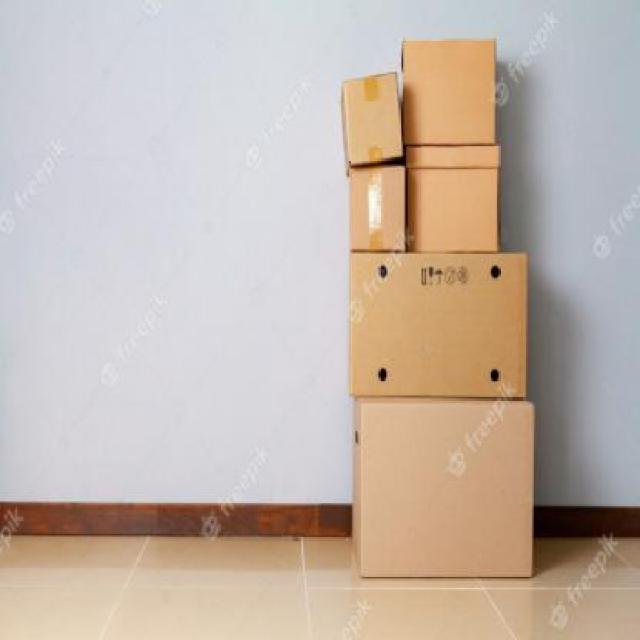box: (353, 398, 537, 579), (346, 250, 530, 400), (402, 148, 499, 252), (402, 35, 492, 145), (342, 69, 402, 173), (348, 162, 403, 253)
